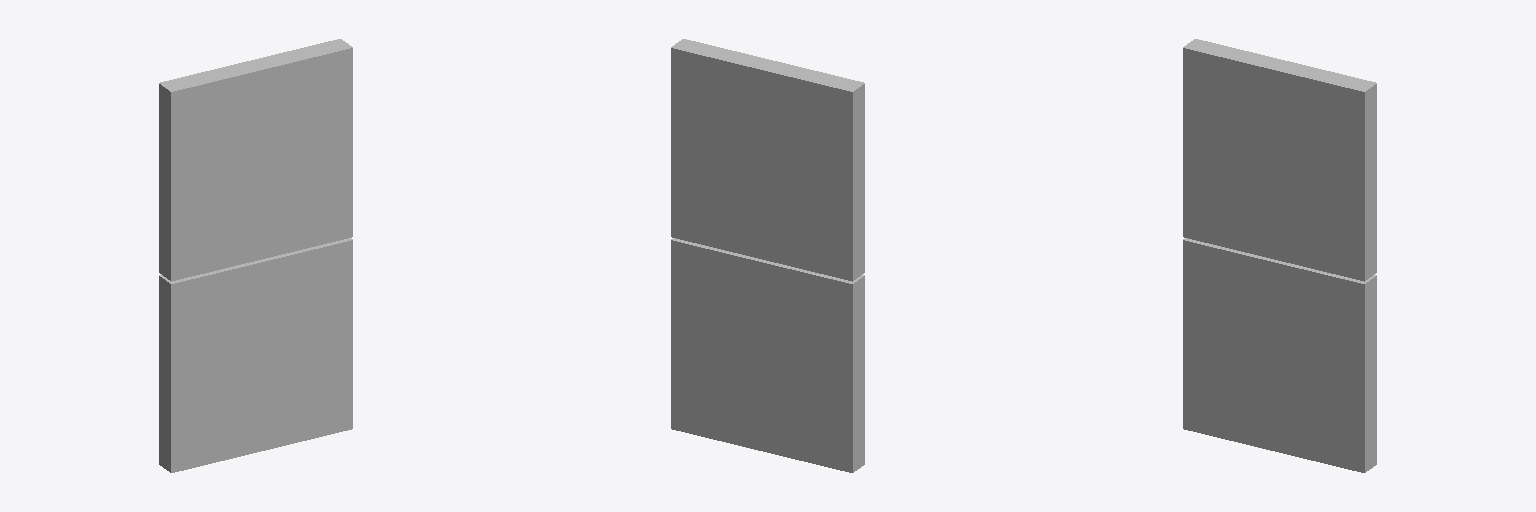
Rendered from boxgb.obj.
3 renders of one model, left to right at view 1: azimuth 30°, elevation 25°; view 2: azimuth 150°, elevation 25°; view 3: azimuth 330°, elevation 25°, orthographic.
Parts seen in each view (by area): view 1: boxgb_box.004; view 2: boxgb_box.004; view 3: boxgb_box.004.
Boxes of the visible parts, x1=… form: boxgb_box.004: x1=159, y1=39, x2=352, y2=472; boxgb_box.004: x1=671, y1=39, x2=864, y2=472; boxgb_box.004: x1=1183, y1=39, x2=1376, y2=472.
Size of the model in its own units: 1.56 by 3.11 by 0.1872.